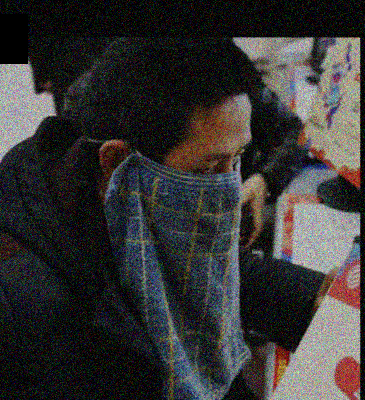with_mask: (131, 138, 253, 263)
